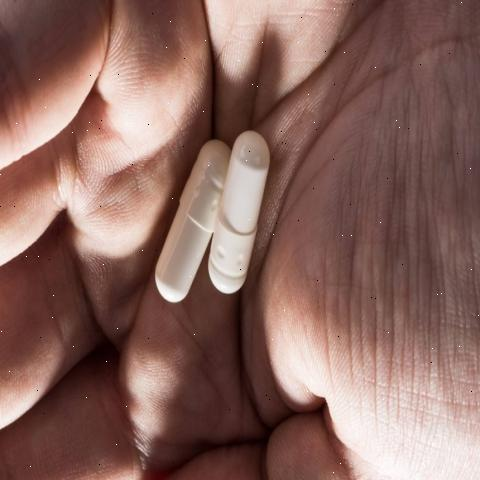Pill: (142, 128, 228, 324), (208, 122, 264, 308)
